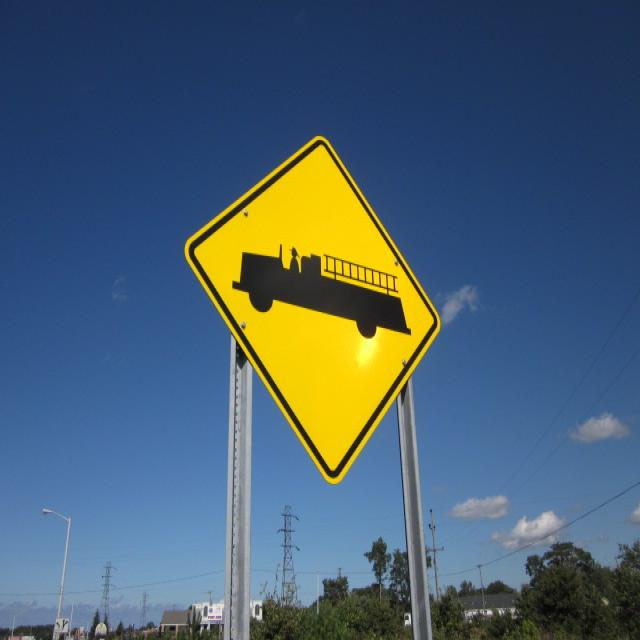warning: (187, 131, 445, 482)
